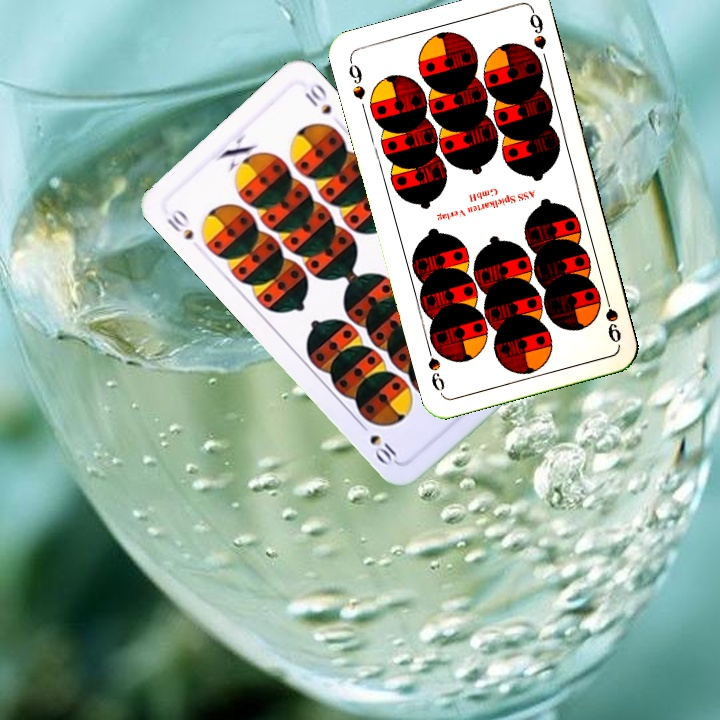S10: (162, 205, 196, 243)
S9: (599, 287, 624, 346), (344, 56, 368, 102)
